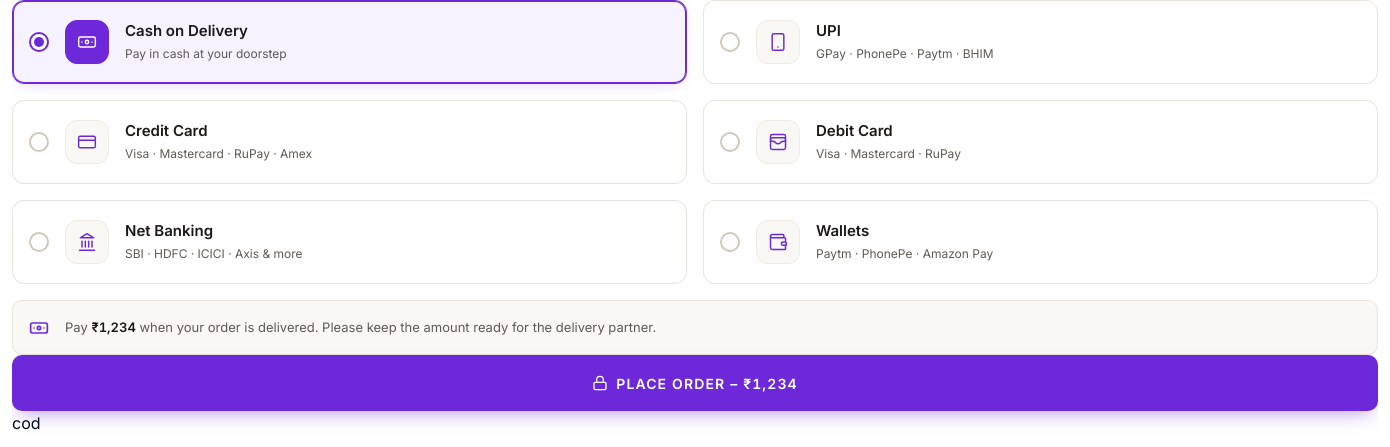
Test case: CheckoutCta › UPI never submits: no payment attempt, no silent switch to COD
Click the radio button labelled "UPI GPay · PhonePe · Paytm · BHIM": click(778, 42) x1=703 y1=0 x2=1378 y2=84
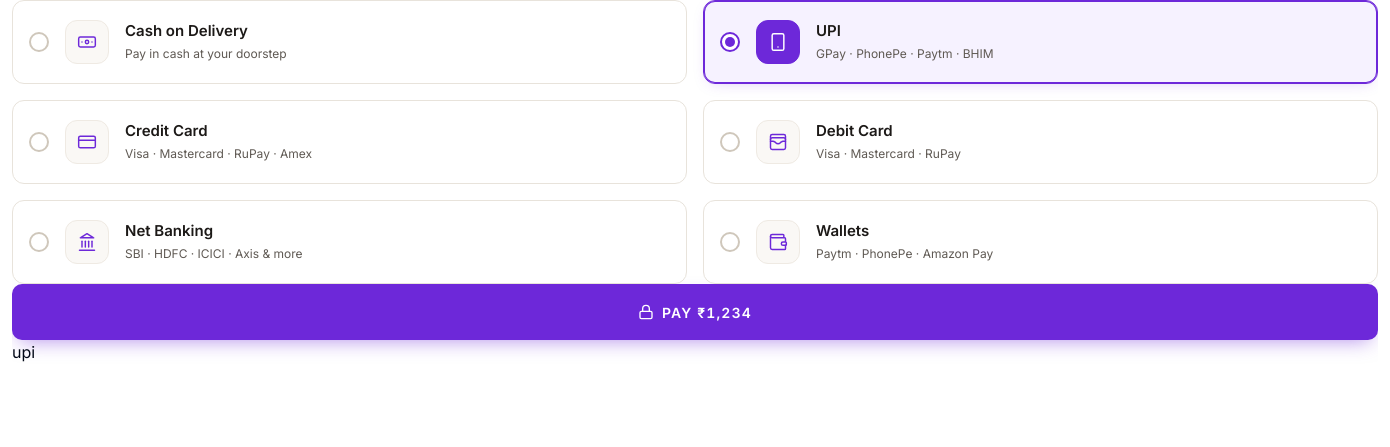
Click the button "Pay ₹1,234": click(695, 312) x1=12 y1=284 x2=1378 y2=340
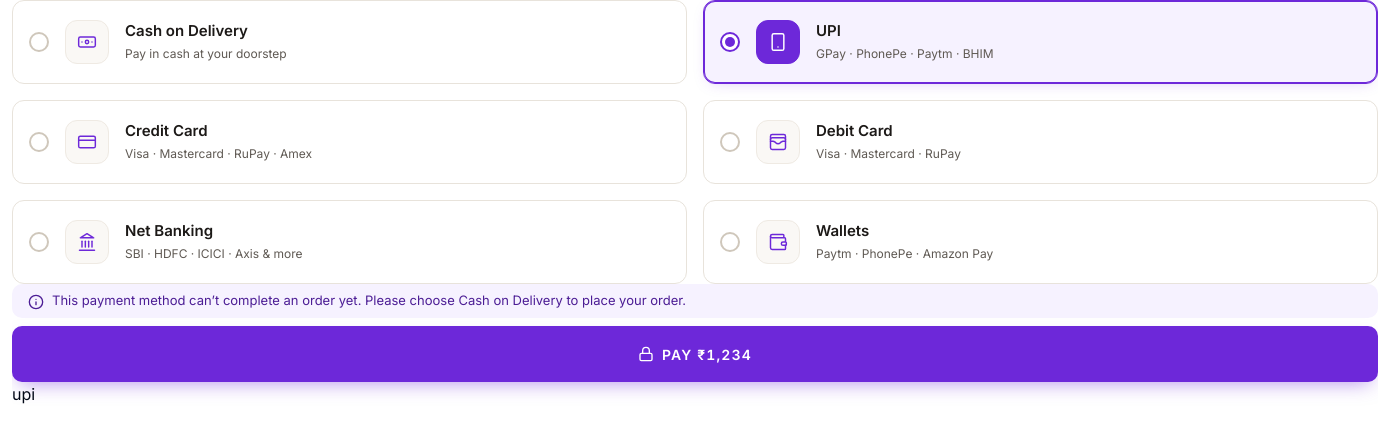
Result: the radio button labelled "UPI GPay · PhonePe · Paytm · BHIM" is checked at x1=703 y1=0 x2=1378 y2=84
Result: the message shows "Please choose Cash on Delivery" at x1=52 y1=292 x2=686 y2=308
